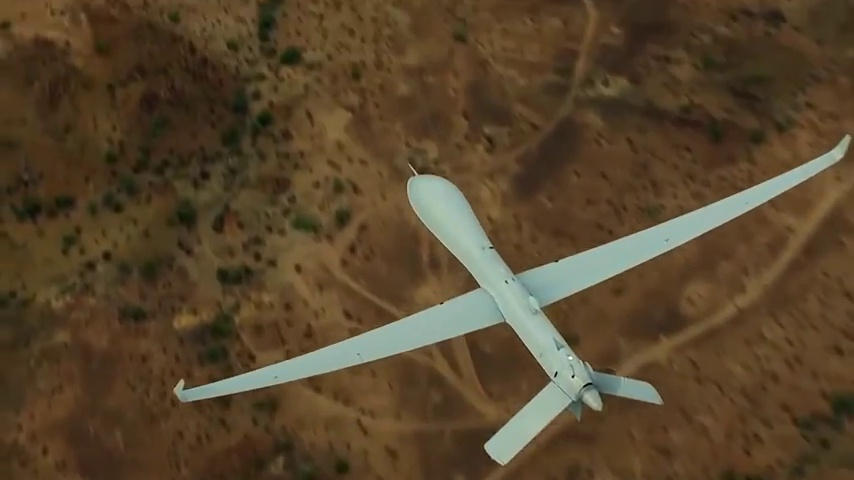military drone: (171, 134, 852, 466)
